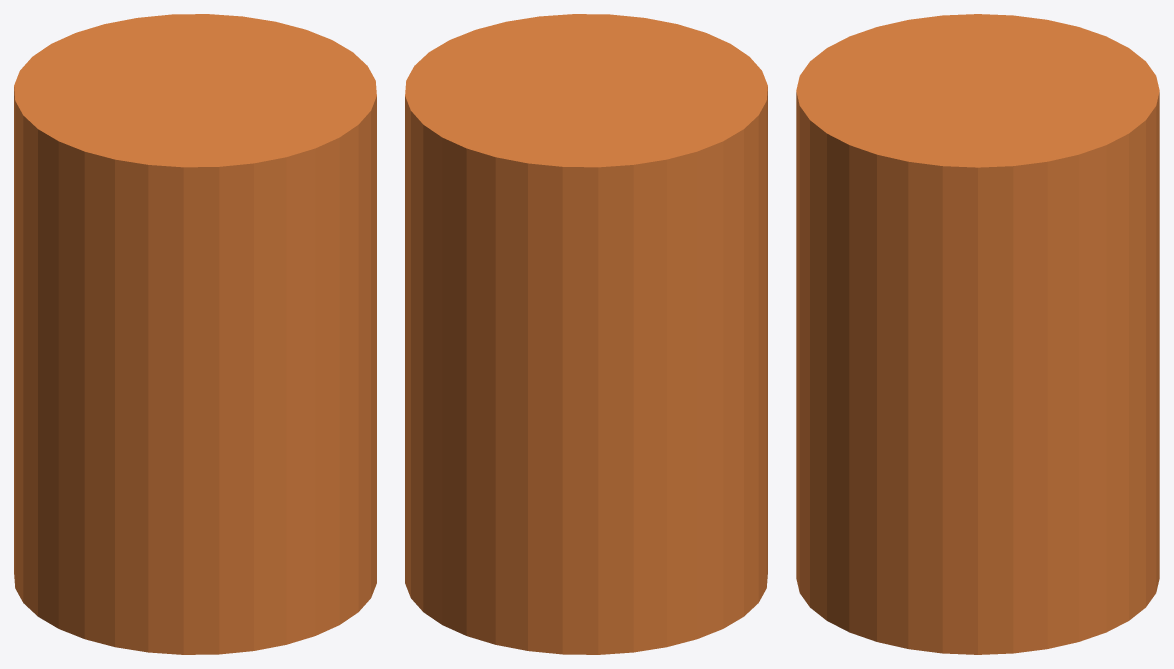
3 views of the same model, side by side, from view 1: azimuth 30°, elevation 25°; view 2: azimuth 150°, elevation 25°; view 3: azimuth 270°, elevation 25° (orthographic).
Visible parts, largest first — view 1: Cylinder; view 2: Cylinder; view 3: Cylinder.
Part boxes in pixels (x1,y1,x2,y2): Cylinder: (14, 14, 376, 654); Cylinder: (405, 14, 767, 654); Cylinder: (796, 14, 1159, 654).
Size of the model in its own units: 0.073 by 0.073 by 0.108.
